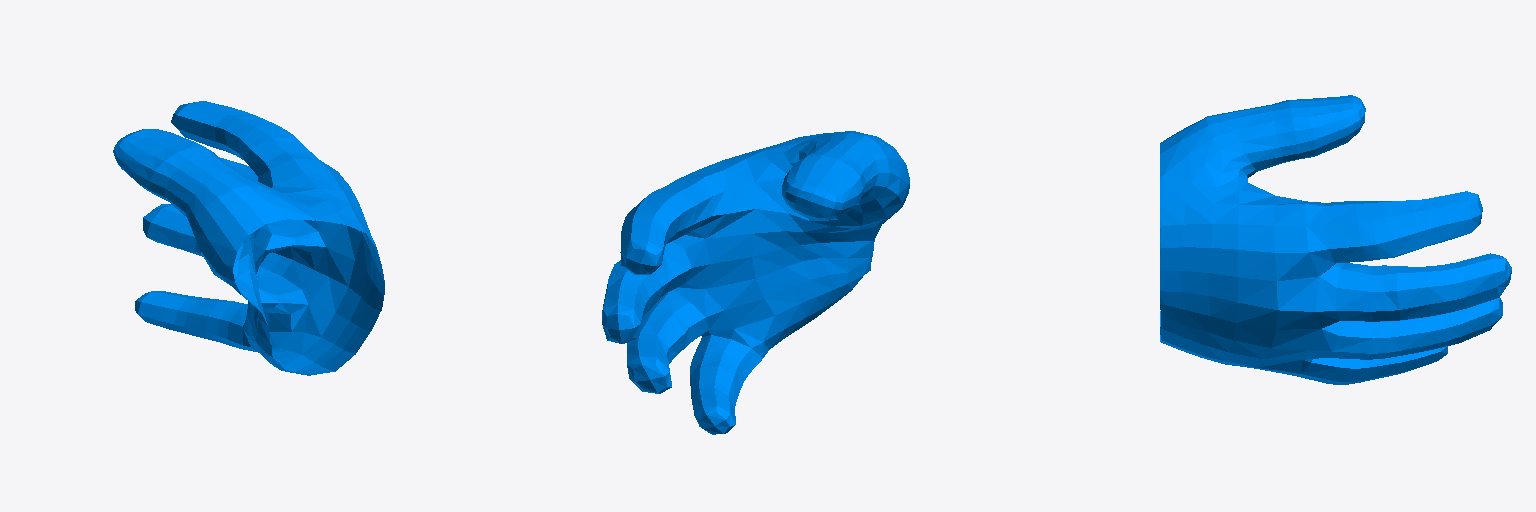
The picture shows the model from 3 angles: view 1: azimuth 30°, elevation 25°; view 2: azimuth 150°, elevation 25°; view 3: azimuth 270°, elevation 25°; orthographic projection.
Parts seen in each view (by area): view 1: hand_right; view 2: hand_right; view 3: hand_right.
Boxes of the visible parts, x1,y1,x2,y2 form: hand_right: [113, 101, 384, 375]; hand_right: [602, 131, 909, 434]; hand_right: [1160, 95, 1511, 384].
Bounding box in the file's own units: 0.0988 × 0.105 × 0.1856.
1 materials, 1 textured.